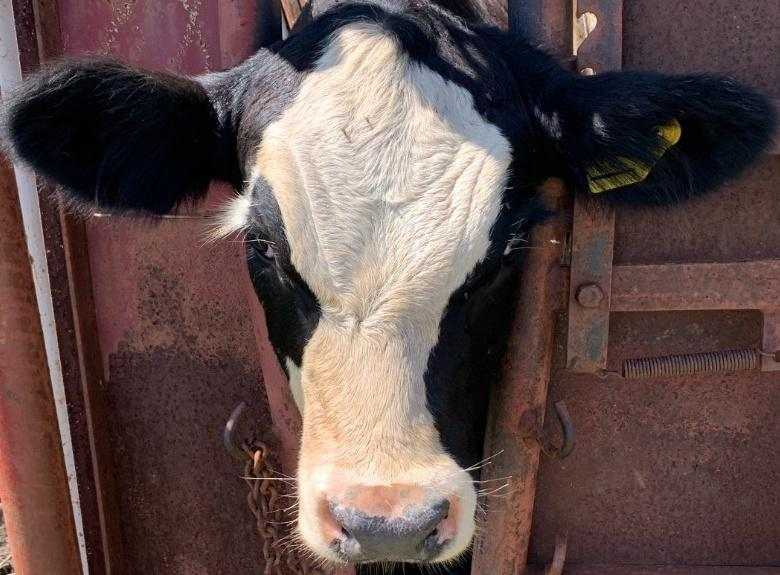muzzles: (294, 472, 482, 571)
